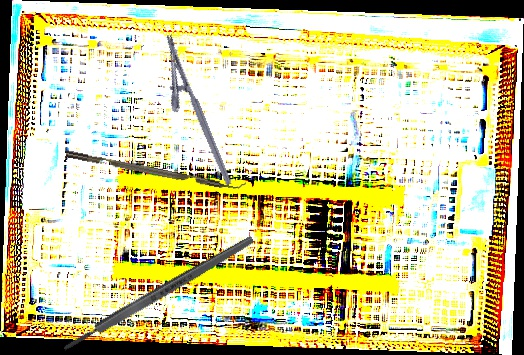Chopper: (65, 141, 247, 195)
Needle Holder: (145, 32, 233, 195)
Scalpel Handle: (60, 233, 257, 355)
